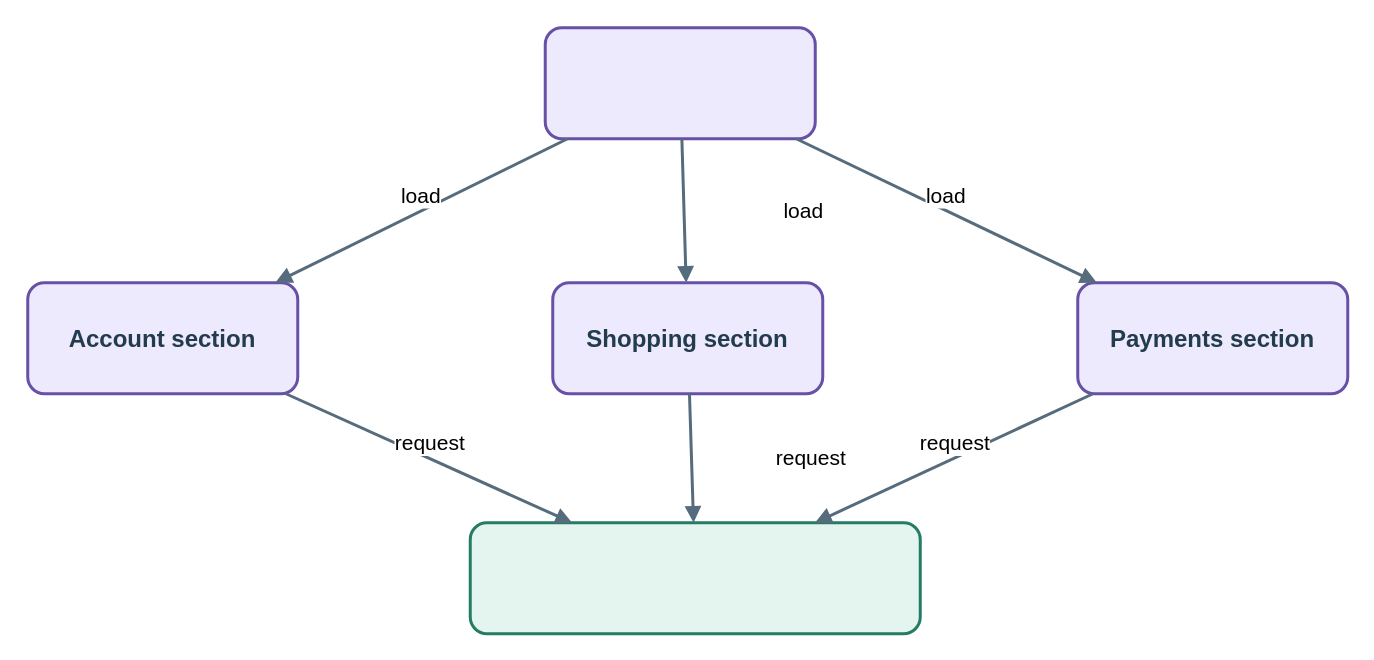
Image size: 1374x660. Some labels were removed from this diagram. The shapes that lost their labels are listed below. From the top down, each one's centre as x and y in pixels, then its label:
pixel 679 83: Application shell
pixel 694 577: Business services
